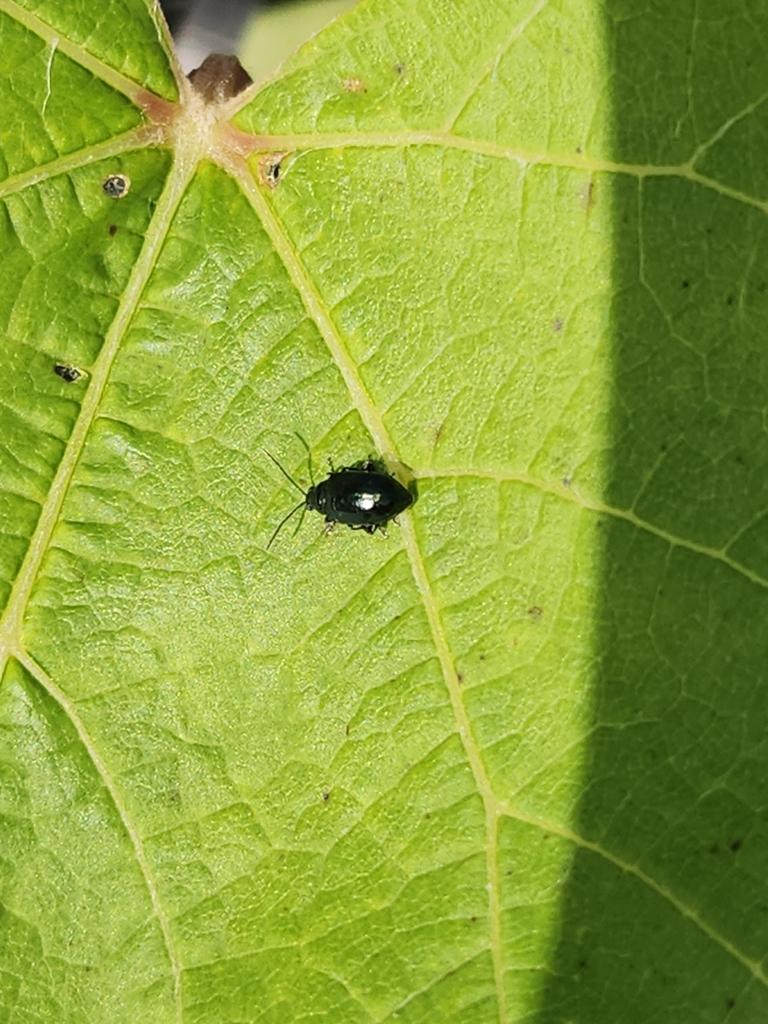flea_beetle: (225, 429, 461, 575)
